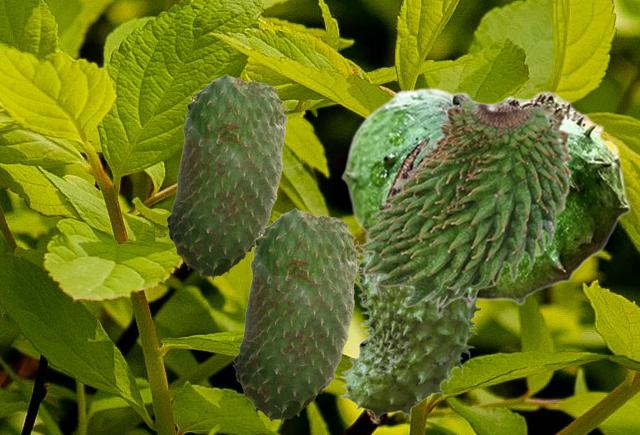guyabano: (341, 87, 630, 315), (358, 92, 573, 307), (232, 207, 360, 422), (338, 240, 483, 423), (165, 73, 288, 279)
